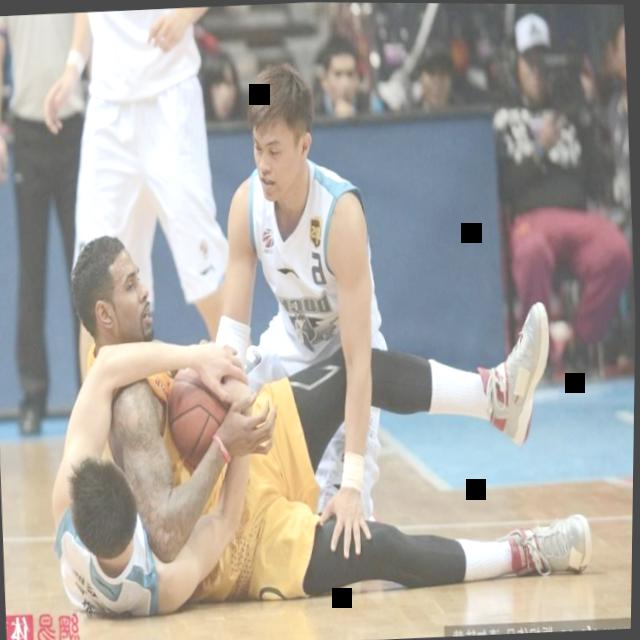Fall-Detected: (34, 227, 290, 628)
